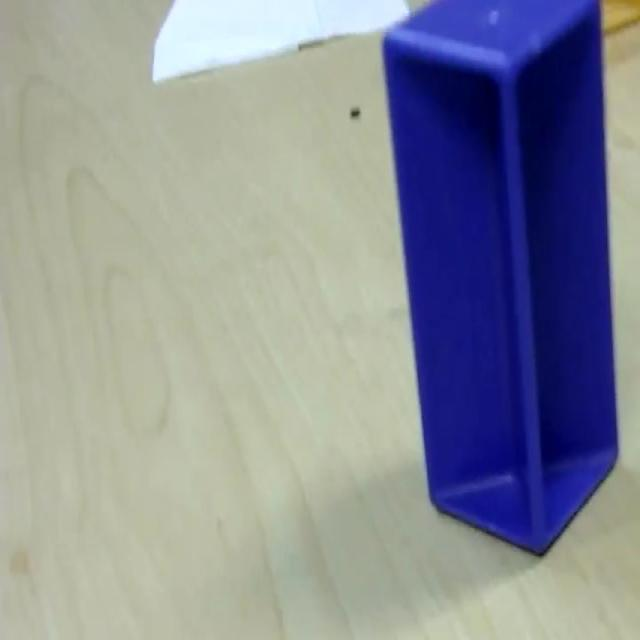blue_block: (380, 0, 620, 556)
